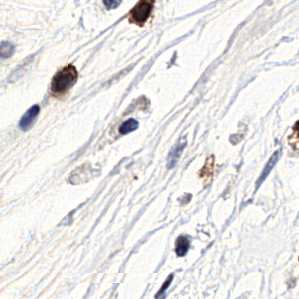Lymphocyte: (48, 66, 77, 95)
